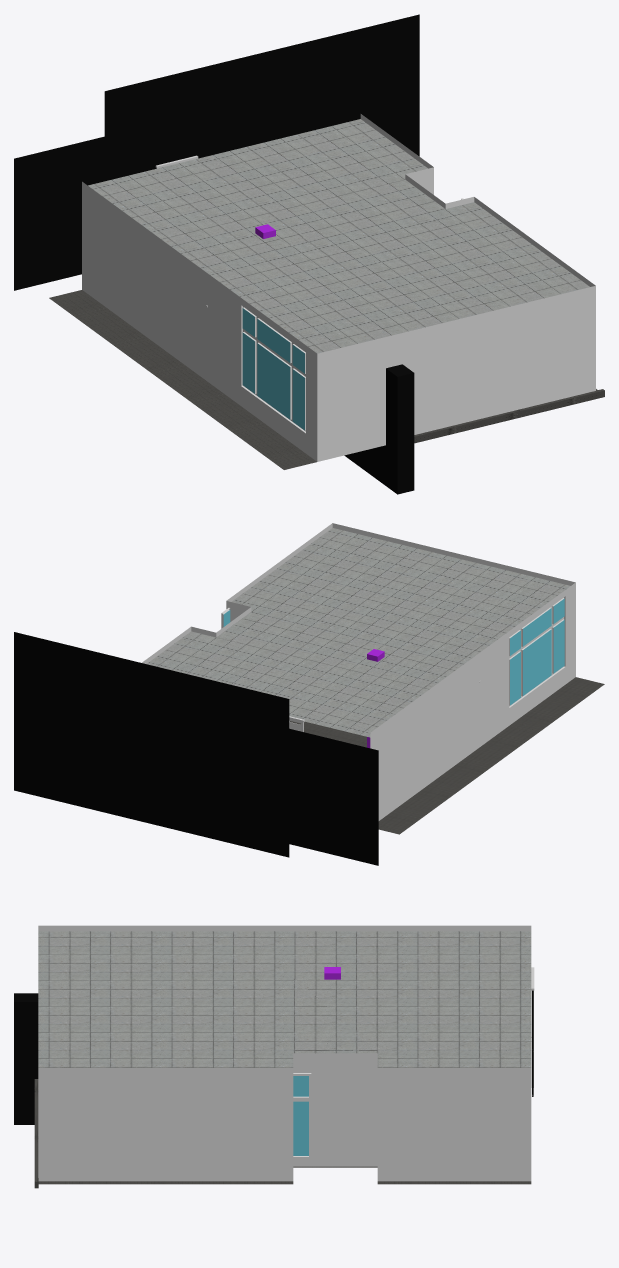
File: Labo_para_mapear1.fbx
The picture shows the model from 3 angles, top to bottom: view 1: azimuth 30°, elevation 25°; view 2: azimuth 150°, elevation 25°; view 3: azimuth 270°, elevation 25°; orthographic projection. The views are drawn at different scales.
Parts seen in each view (by area): view 1: Piso.029; view 2: Piso.029; view 3: Piso.029.
Boxes of the visible parts, box(x1,y1,x2,y2) form: Piso.029: box(14, 14, 604, 494); Piso.029: box(14, 523, 604, 865); Piso.029: box(14, 925, 534, 1188).
Bounding box in the file's own units: 2372 × 1098 × 2816.
